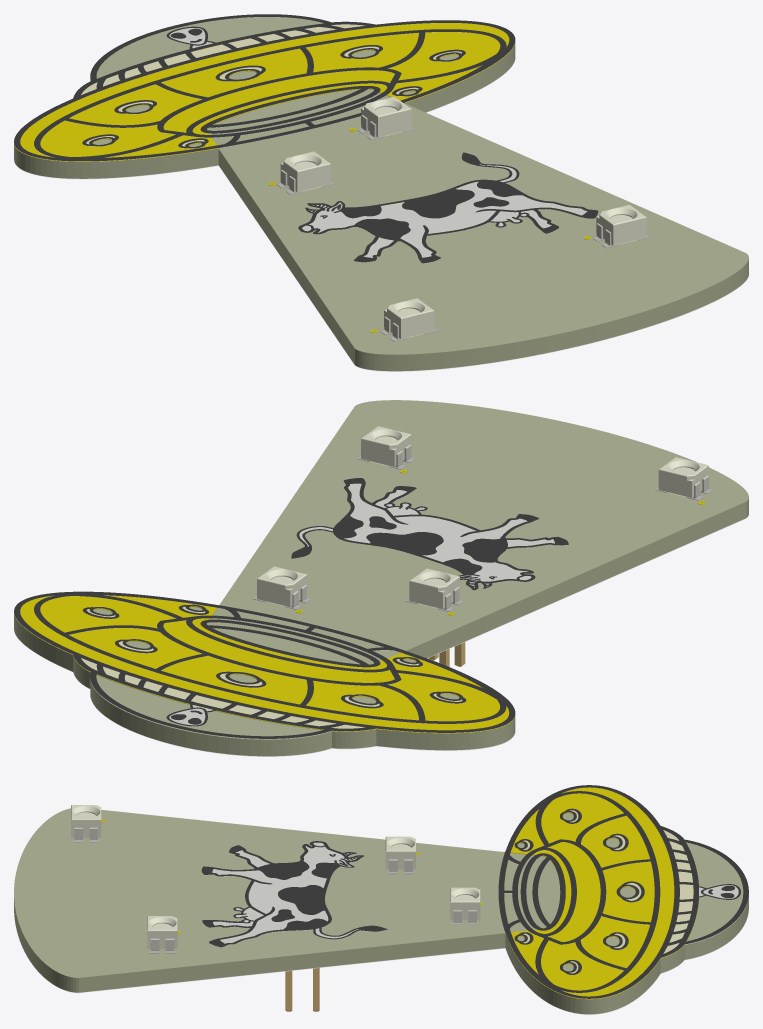
File: tr25-sao-hw-troopers-25-shitty-add-on.glb
3 renders of one model, top to bottom at view 1: azimuth 30°, elevation 25°; view 2: azimuth 150°, elevation 25°; view 3: azimuth 270°, elevation 25°, orthographic. The views are drawn at different scales.
Visible parts, largest first — view 1: =>[0:1:1:3], =>[0:1:1:13]; view 2: =>[0:1:1:3], =>[0:1:1:13]; view 3: =>[0:1:1:3], =>[0:1:1:13].
Boxes of the visible parts, x1=… form: =>[0:1:1:3]: x1=14, y1=14, x2=748, y2=371; =>[0:1:1:13]: x1=14, y1=17, x2=748, y2=371; =>[0:1:1:3]: x1=14, y1=400, x2=748, y2=756; =>[0:1:1:13]: x1=14, y1=461, x2=748, y2=756; =>[0:1:1:3]: x1=14, y1=785, x2=748, y2=1014; =>[0:1:1:13]: x1=14, y1=787, x2=747, y2=1014.
Bounding box in the file's own units: 0.0468 × 0.013 × 0.068.
Materials: 2 (2 with a texture image).
